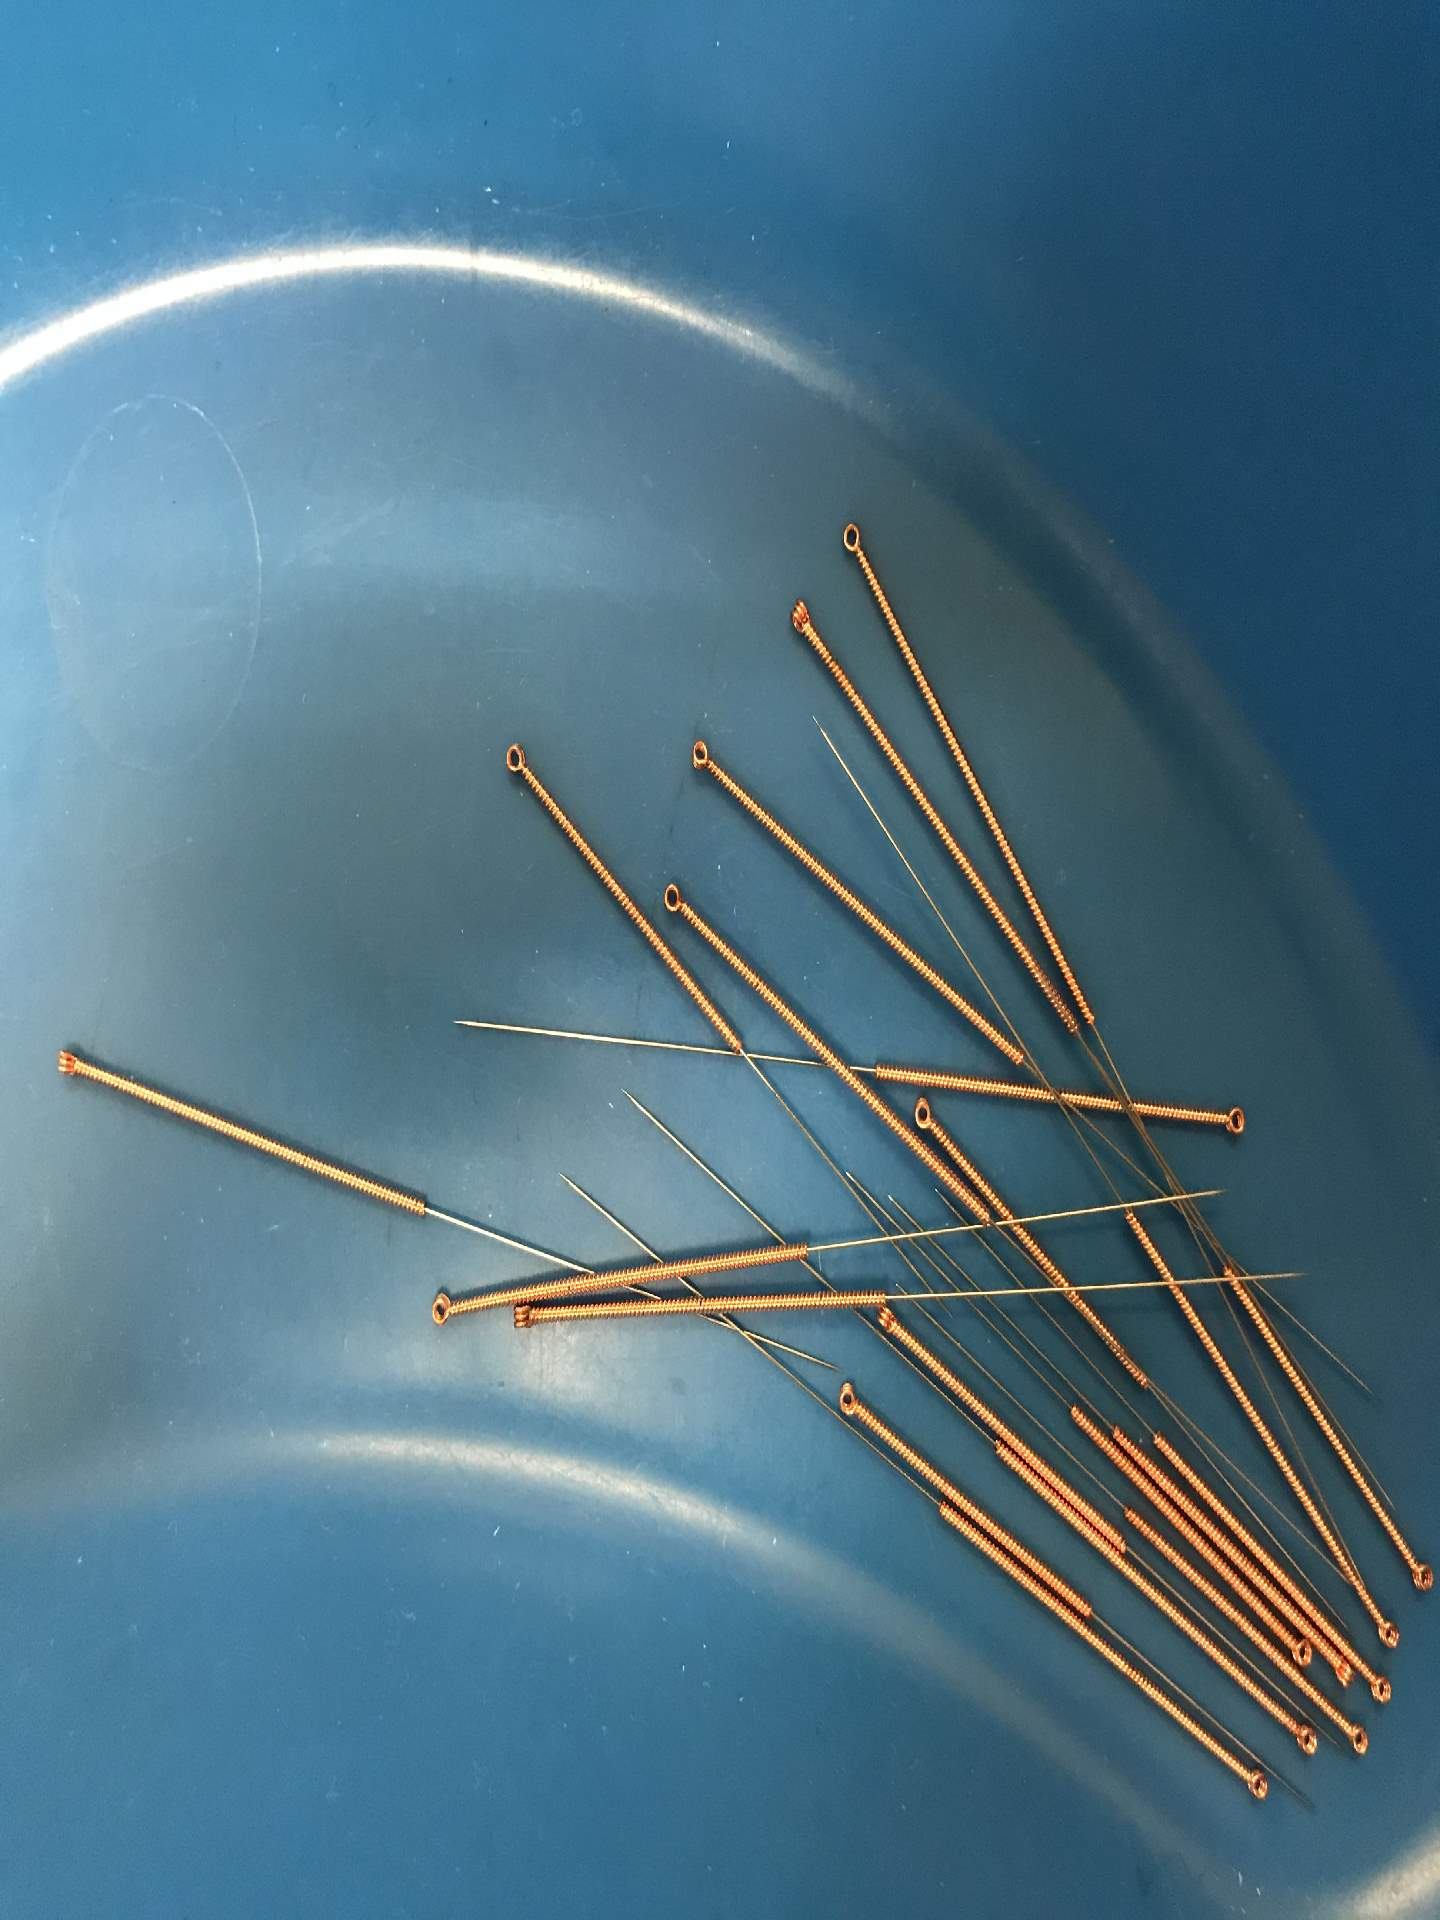needle: (416, 1285, 466, 1333), (827, 1376, 874, 1427), (1209, 1096, 1252, 1144), (1233, 1763, 1277, 1808), (1334, 1716, 1378, 1761), (45, 1042, 88, 1089), (782, 591, 818, 646), (653, 875, 694, 921), (496, 735, 534, 783), (833, 516, 870, 565), (1370, 1609, 1408, 1655), (1286, 1716, 1324, 1761), (502, 1299, 551, 1333), (871, 1302, 914, 1341), (682, 735, 722, 776), (1360, 1665, 1399, 1705), (1404, 1556, 1440, 1599), (911, 1093, 942, 1134), (1328, 1654, 1357, 1692), (1289, 1634, 1316, 1669)
